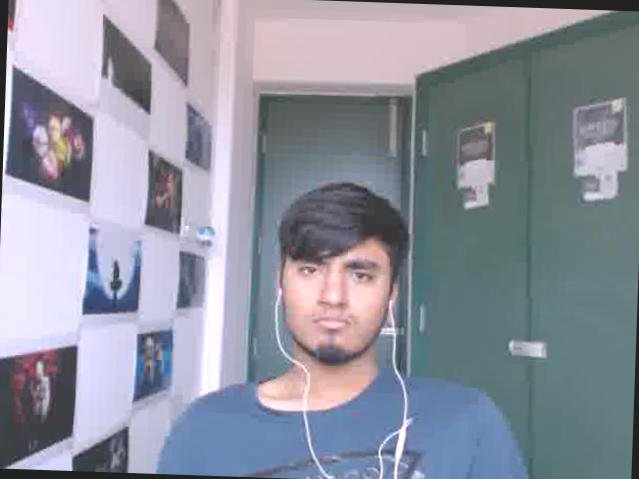bingung: (279, 227, 388, 355)
